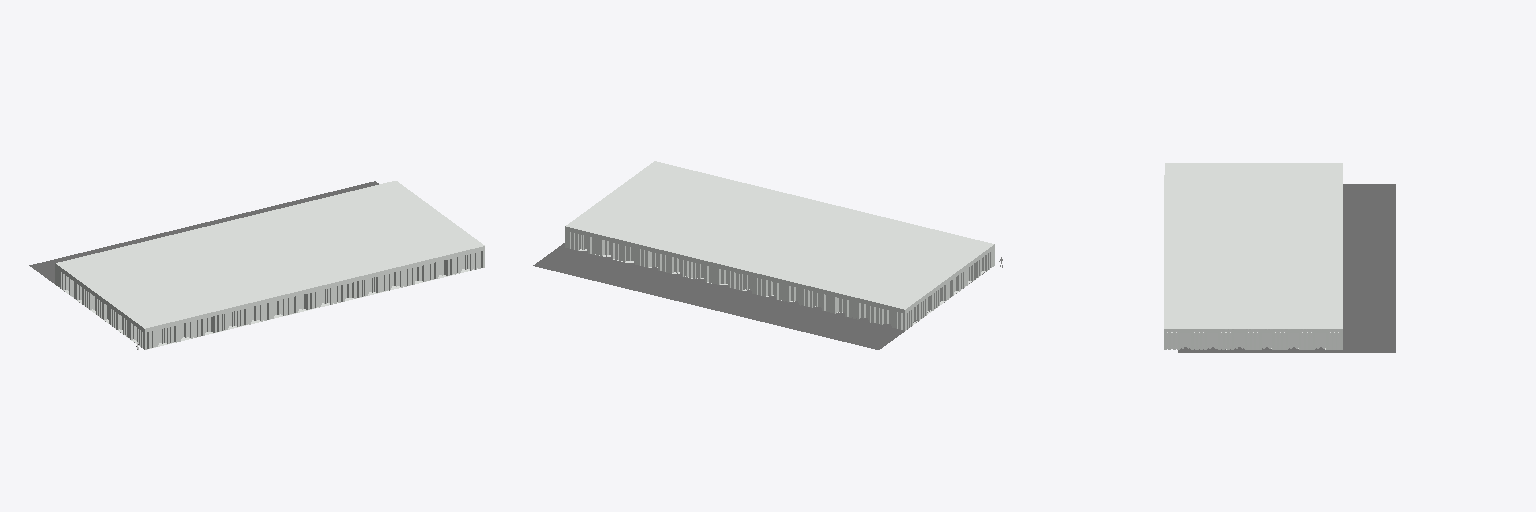
The picture shows the model from 3 angles: view 1: azimuth 30°, elevation 25°; view 2: azimuth 150°, elevation 25°; view 3: azimuth 270°, elevation 25°; orthographic projection.
Visible parts, largest first — view 1: Mesh1 Model, Mesh2 Model; view 2: Mesh1 Model, Mesh2 Model; view 3: Mesh1 Model, Mesh2 Model.
Boxes of the visible parts, x1,y1,x2,y2 form: Mesh1 Model: [55, 181, 484, 349]; Mesh2 Model: [29, 181, 378, 342]; Mesh1 Model: [565, 161, 994, 330]; Mesh2 Model: [533, 243, 984, 349]; Mesh1 Model: [1164, 163, 1342, 349]; Mesh2 Model: [1178, 184, 1395, 352].
Bounding box in the file's own units: 59.54 × 3.45 × 33.73.
Materials: 3 (2 with a texture image).